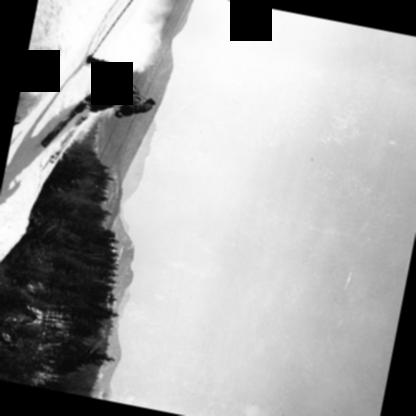backpack: (127, 91, 151, 114)
